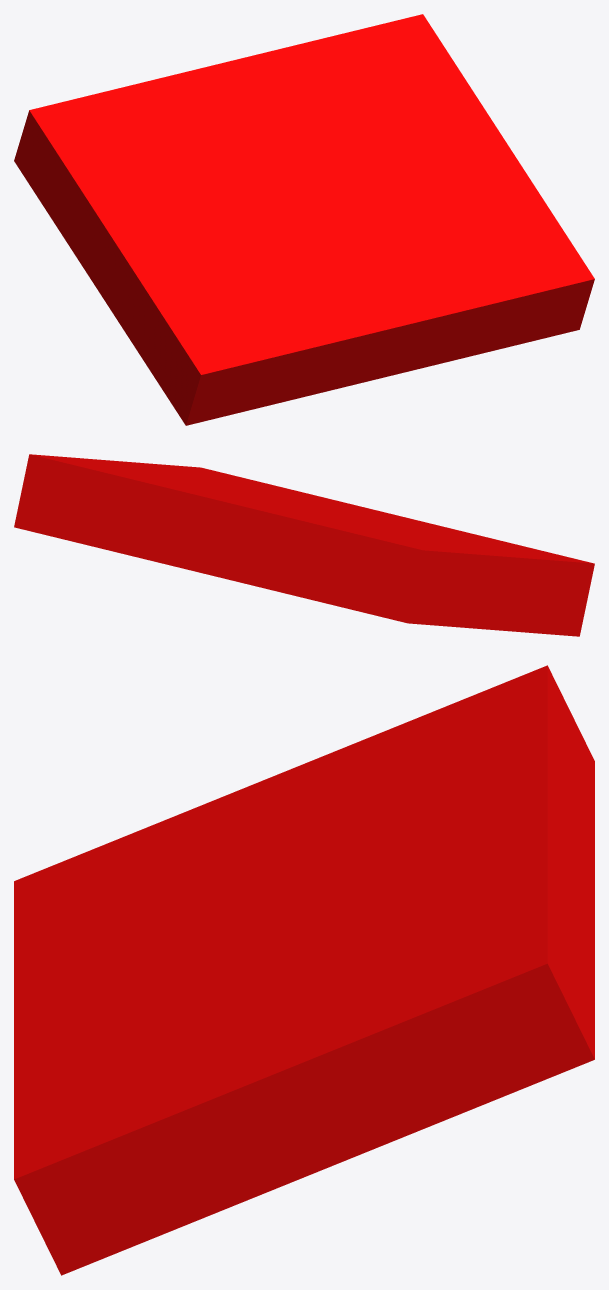
The model's file is Libro.fbx.
3 renders of one model, top to bottom at view 1: azimuth 30°, elevation 25°; view 2: azimuth 150°, elevation 25°; view 3: azimuth 270°, elevation 25°, orthographic. The views are drawn at different scales.
Parts seen in each view (by area): view 1: Cube.001; view 2: Cube.001; view 3: Cube.001.
Boxes of the visible parts, box(x1,y1,x2,y2) form: Cube.001: box(14, 14, 594, 425); Cube.001: box(14, 454, 594, 636); Cube.001: box(14, 665, 594, 1275).
Bounding box in the file's own units: 242 × 118 × 199.
